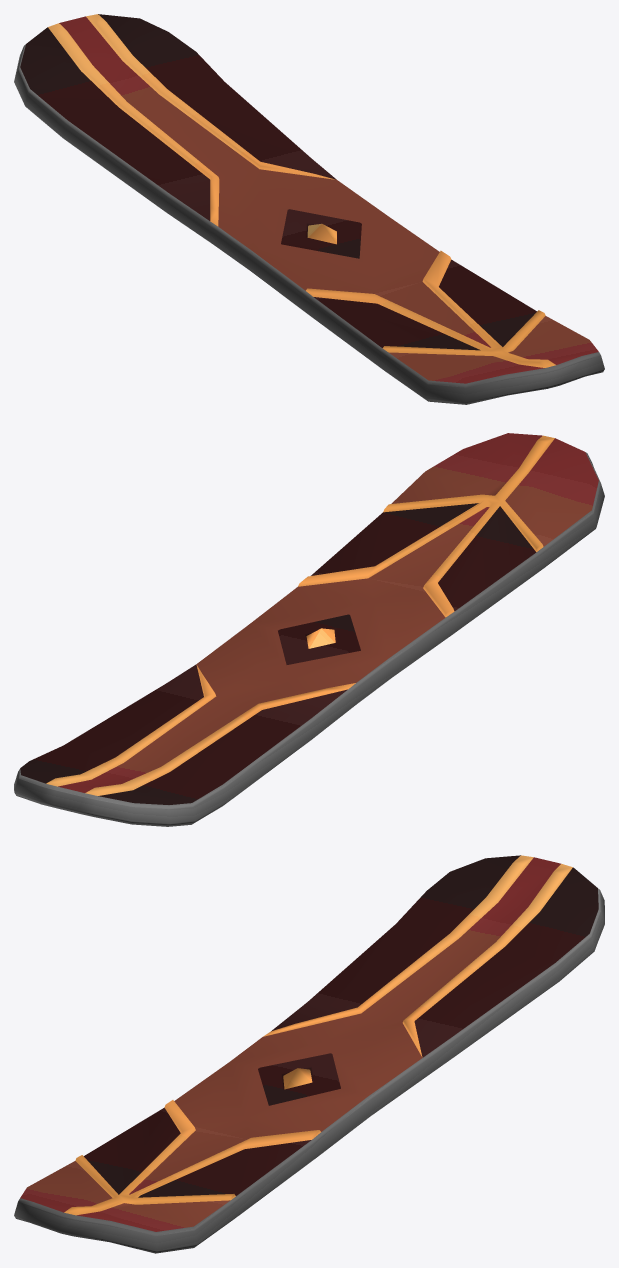
The model's file is CharSkyKid_Prop_Snowboard.glb.
3 renders of one model, top to bottom at view 1: azimuth 30°, elevation 25°; view 2: azimuth 150°, elevation 25°; view 3: azimuth 330°, elevation 25°, orthographic.
Parts seen in each view (by area): view 1: CharSkyKid_Prop_Snowboard; view 2: CharSkyKid_Prop_Snowboard; view 3: CharSkyKid_Prop_Snowboard.
Part boxes in pixels (bbox=[...]): CharSkyKid_Prop_Snowboard: bbox=[14, 14, 604, 404]; CharSkyKid_Prop_Snowboard: bbox=[14, 433, 604, 826]; CharSkyKid_Prop_Snowboard: bbox=[14, 855, 604, 1253].
Bounding box in the file's own units: 2.42 × 0.7392 × 11.71.
Materials: 1 (1 with a texture image).
